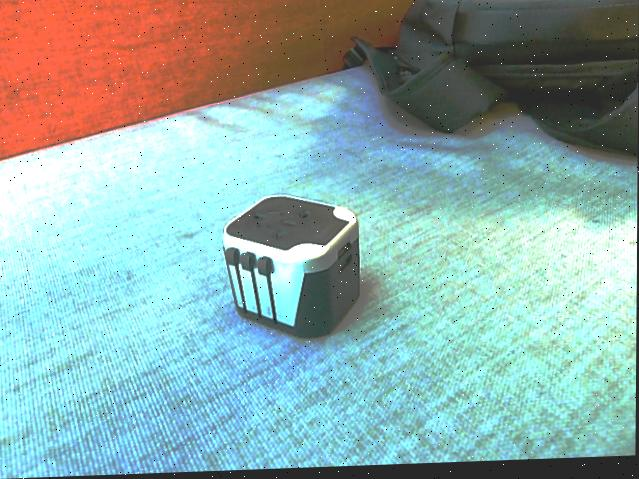adapter: (220, 194, 362, 343)
